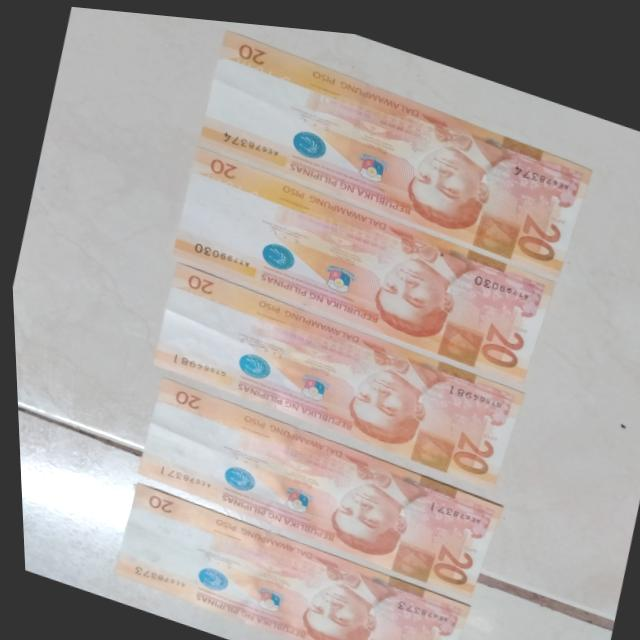concealed_value: (431, 309, 482, 360), (404, 415, 453, 466)
see_through_mark: (170, 274, 243, 313)
serial_number: (162, 343, 228, 380), (123, 557, 182, 590), (439, 369, 501, 400), (388, 589, 447, 620)
value: (467, 307, 534, 371), (440, 415, 501, 474)
value_watermark: (167, 298, 185, 318), (152, 416, 170, 436)
watermark: (194, 175, 274, 264)
